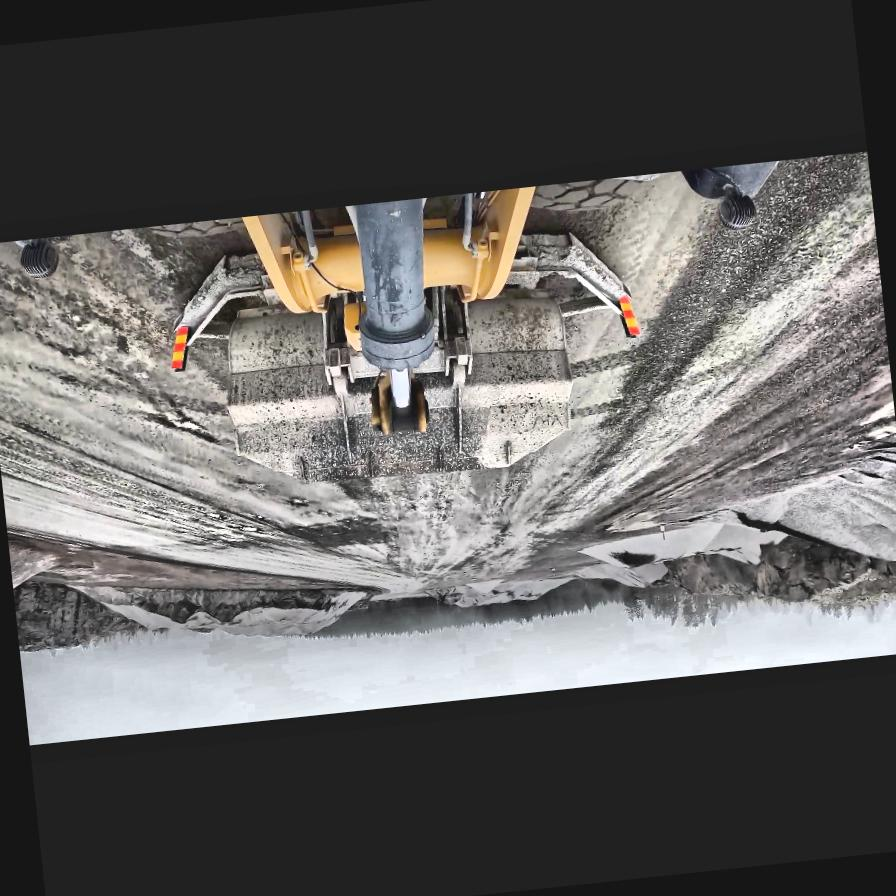anchor: (367, 370, 429, 438)
pile of gravel: (82, 560, 370, 656), (578, 510, 794, 595), (743, 460, 896, 579), (5, 515, 76, 597), (436, 574, 570, 610), (707, 544, 763, 572), (569, 564, 616, 584)
